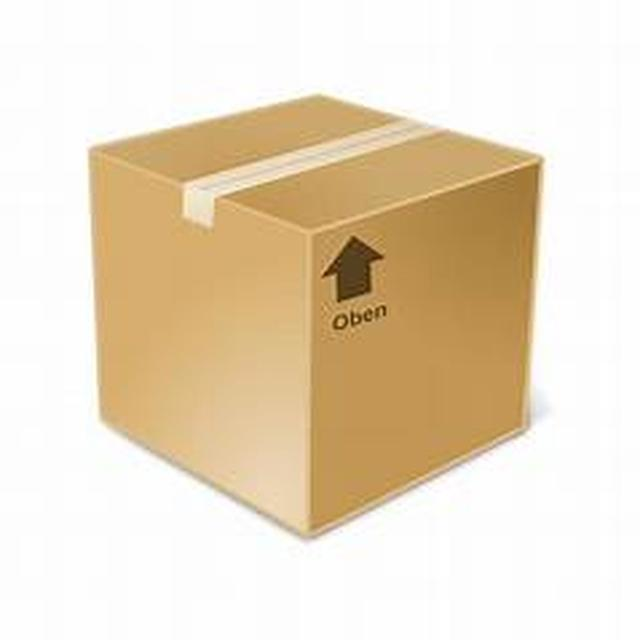box: (65, 48, 585, 571)
